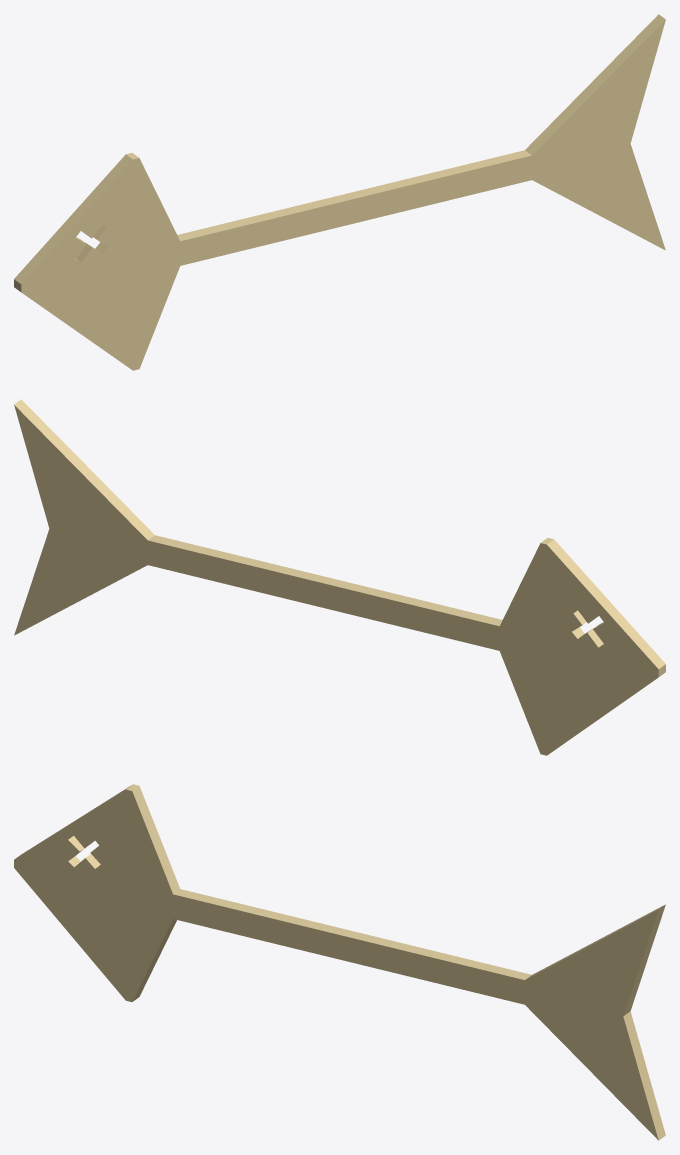
File: fish_projectile.fbx
The picture shows the model from 3 angles, top to bottom: view 1: azimuth 30°, elevation 25°; view 2: azimuth 150°, elevation 25°; view 3: azimuth 330°, elevation 25°; orthographic projection.
Parts seen in each view (by area): view 1: Cube; view 2: Cube; view 3: Cube.
Part boxes in pixels (bbox=[...]): Cube: bbox=[14, 14, 665, 370]; Cube: bbox=[14, 399, 665, 755]; Cube: bbox=[14, 784, 665, 1140].
Bounding box in the file's own units: 3012 × 1032 × 58.73.
